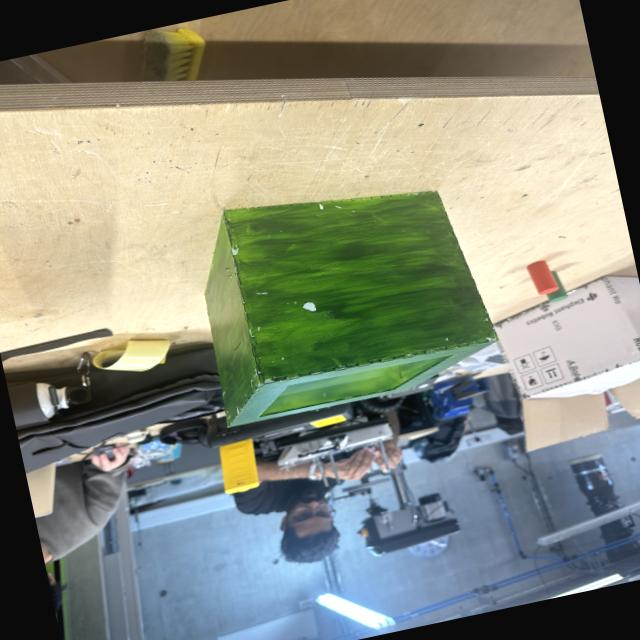green_bin: (180, 156, 508, 430)
